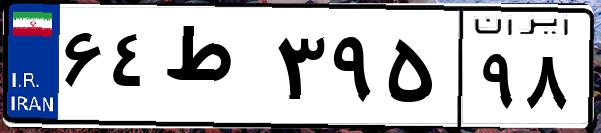3: (270, 28, 330, 110)
4: (110, 28, 158, 98)
5: (385, 28, 445, 110)
6: (57, 26, 110, 100)
8: (525, 38, 570, 115)
9: (330, 28, 385, 110), (475, 38, 525, 113)
ط: (158, 20, 270, 120)
